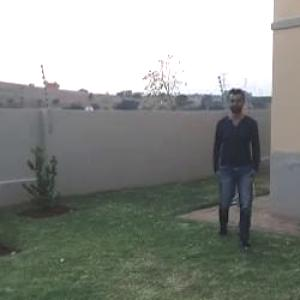follow: (214, 76, 280, 271)
